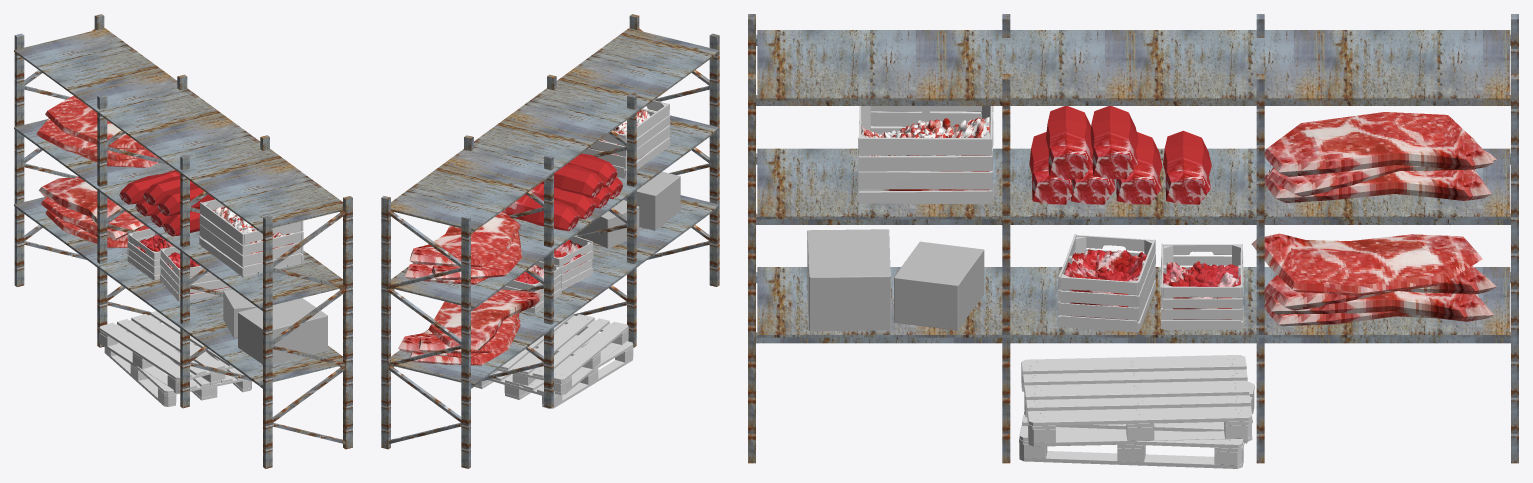
File: shelf daging 1.fbx
3 views of the same model, side by side, from view 1: azimuth 30°, elevation 25°; view 2: azimuth 150°, elevation 25°; view 3: azimuth 270°, elevation 25° (orthographic). The views are drawn at different scales.
Parts seen in each view (by area): view 1: Shelf Freezer2.010, EURO Pallet-used.003, Box of strawberries.002, Box Packaging.011, Plane.007, EURO Pallet-used.002, Plane.003, Box of strawberries.001, Plane.002, Box of strawberries, Box Packaging.014, Circle.008 (+8 smaller); view 2: Shelf Freezer2.010, EURO Pallet-used.003, Plane.007, Plane.003, Box of strawberries.002, EURO Pallet-used.002, Box Packaging.011, Plane.002, Circle.008, Box Packaging.014, Box of strawberries.001, Circle.009 (+8 smaller); view 3: Shelf Freezer2.010, EURO Pallet-used.003, Box of strawberries.002, Plane.003, Plane.007, Box Packaging.011, Box Packaging.014, Box of strawberries.001, EURO Pallet-used.002, Box of strawberries, Plane.001, Plane.005 (+12 smaller).
Boxes of the visible parts, box(x1,y1,x2,y2) form: Shelf Freezer2.010: box(14, 14, 352, 468); EURO Pallet-used.003: box(99, 311, 233, 393); Box of strawberries.002: box(199, 199, 303, 277); Box Packaging.011: box(238, 298, 327, 364); Plane.007: box(38, 178, 144, 240); EURO Pallet-used.002: box(104, 324, 251, 406); Plane.003: box(45, 95, 146, 149); Box of strawberries.001: box(160, 246, 232, 301); Plane.002: box(36, 118, 156, 160); Box of strawberries: box(127, 228, 160, 280); Box Packaging.014: box(223, 290, 256, 337); Circle.008: box(119, 169, 180, 204); Shelf Freezer2.010: box(381, 14, 719, 468); EURO Pallet-used.003: box(490, 313, 628, 394); Plane.007: box(428, 289, 541, 350); Plane.003: box(409, 211, 520, 266); Box of strawberries.002: box(581, 100, 670, 178); EURO Pallet-used.002: box(474, 324, 633, 408); Box Packaging.011: box(624, 171, 680, 230); Plane.002: box(432, 231, 522, 280); Circle.008: box(502, 194, 579, 230); Box Packaging.014: box(576, 200, 639, 248); Box of strawberries.001: box(540, 236, 593, 290); Circle.009: box(541, 164, 603, 197); Shelf Freezer2.010: box(748, 14, 1518, 463); EURO Pallet-used.003: box(1021, 355, 1252, 446); Box of strawberries.002: box(858, 106, 993, 204); Plane.003: box(1264, 112, 1493, 176); Plane.007: box(1251, 233, 1482, 295); Box Packaging.011: box(807, 229, 891, 331); Box Packaging.014: box(894, 241, 984, 330); Box of strawberries.001: box(1058, 234, 1155, 332); EURO Pallet-used.002: box(1019, 382, 1254, 468); Box of strawberries: box(1160, 243, 1243, 329); Plane.001: box(1264, 169, 1491, 202); Plane.005: box(1264, 291, 1487, 320).
Bounding box in the file's own units: 111 × 280 × 500.
